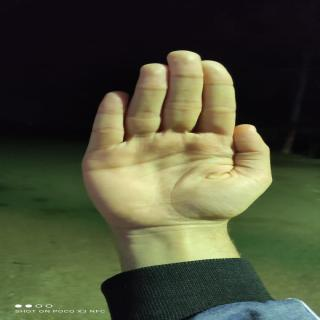SEEN: (66, 46, 286, 242)
